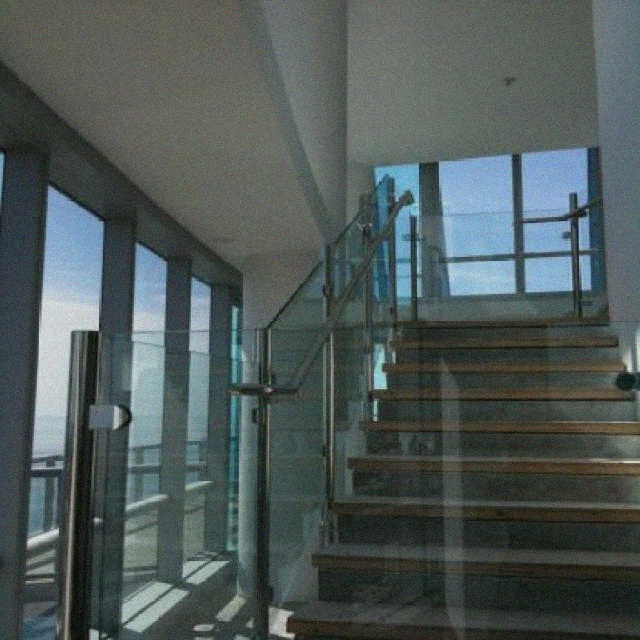stair: (286, 314, 640, 640)
